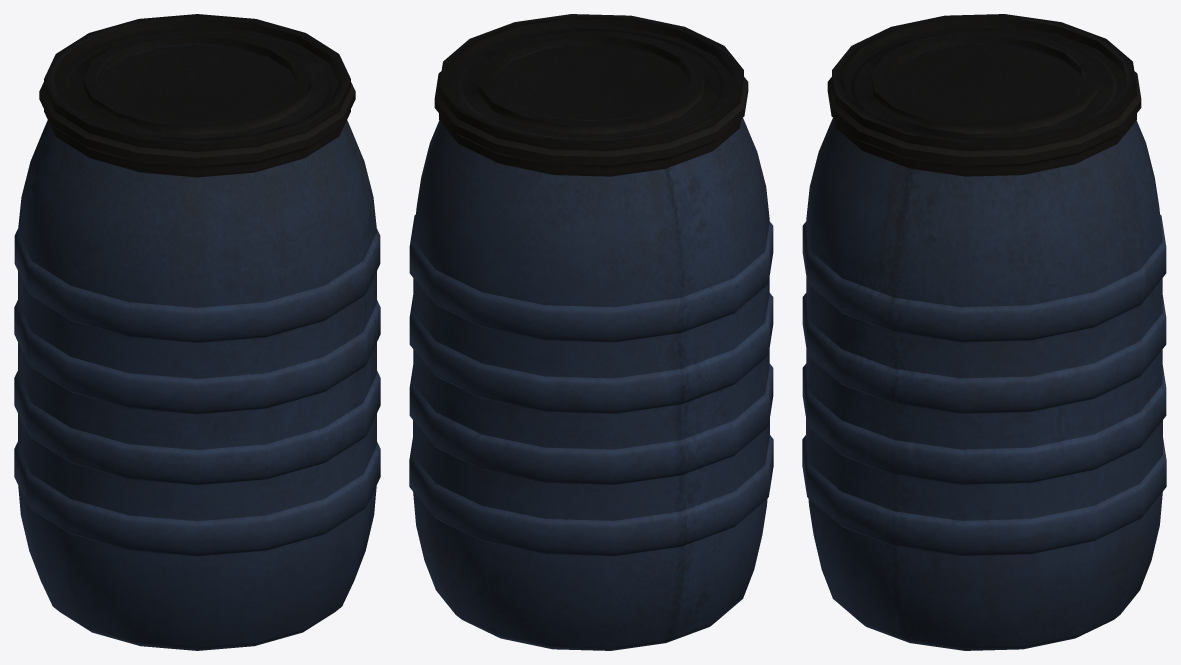
Rendered from water_barrel_1.obj.
The picture shows the model from 3 angles, left to right: view 1: azimuth 30°, elevation 25°; view 2: azimuth 150°, elevation 25°; view 3: azimuth 270°, elevation 25°; orthographic projection.
Parts seen in each view (by area): view 1: water_barrel_1; view 2: water_barrel_1; view 3: water_barrel_1.
Part boxes in pixels (x1,y1,x2,y2): water_barrel_1: (14, 14, 380, 650); water_barrel_1: (409, 14, 773, 650); water_barrel_1: (802, 14, 1166, 650).
Bounding box in the file's own units: 0.7271 × 1.12 × 0.7271.
